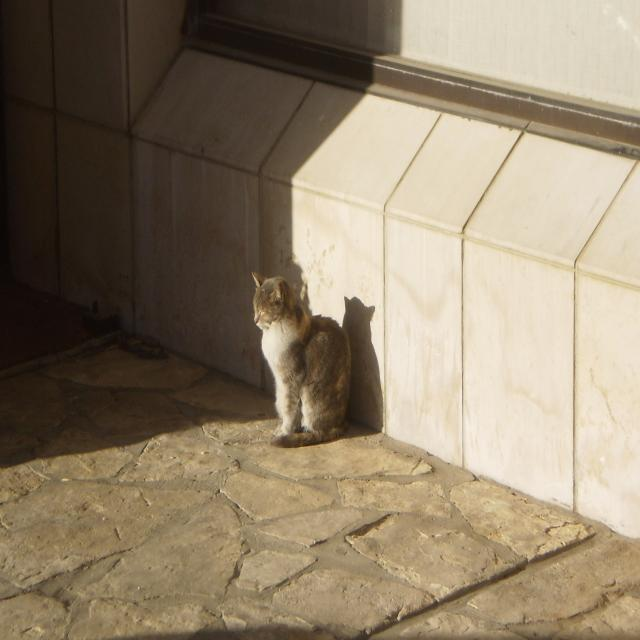cat: (252, 273, 351, 447)
